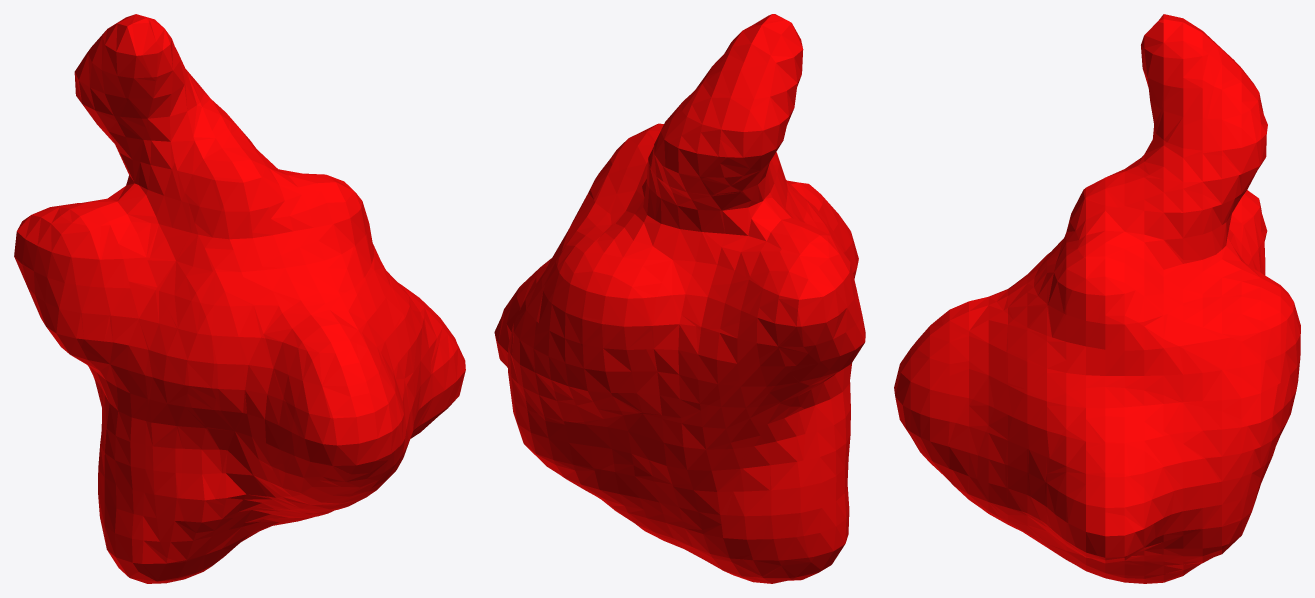
Rendered from rof_coarse.dae.
3 views of the same model, side by side, from view 1: azimuth 30°, elevation 25°; view 2: azimuth 150°, elevation 25°; view 3: azimuth 270°, elevation 25° (orthographic). The views are drawn at different scales.
Visible parts, largest first — view 1: rof; view 2: rof; view 3: rof.
Boxes of the visible parts, bbox=[...] form: rof: bbox=[14, 14, 465, 583]; rof: bbox=[494, 14, 865, 583]; rof: bbox=[894, 14, 1300, 583].
Bounding box in the file's own units: 36.94 × 51.11 × 34.96.
